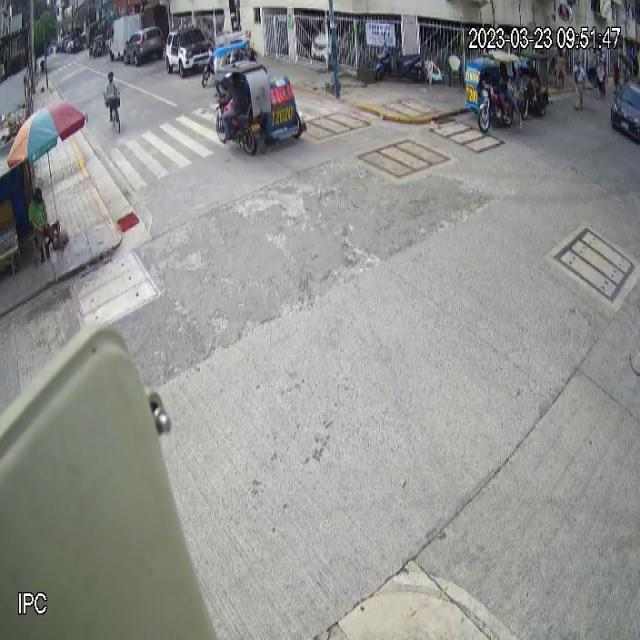Tricycle: (212, 60, 308, 157), (464, 50, 520, 134)
